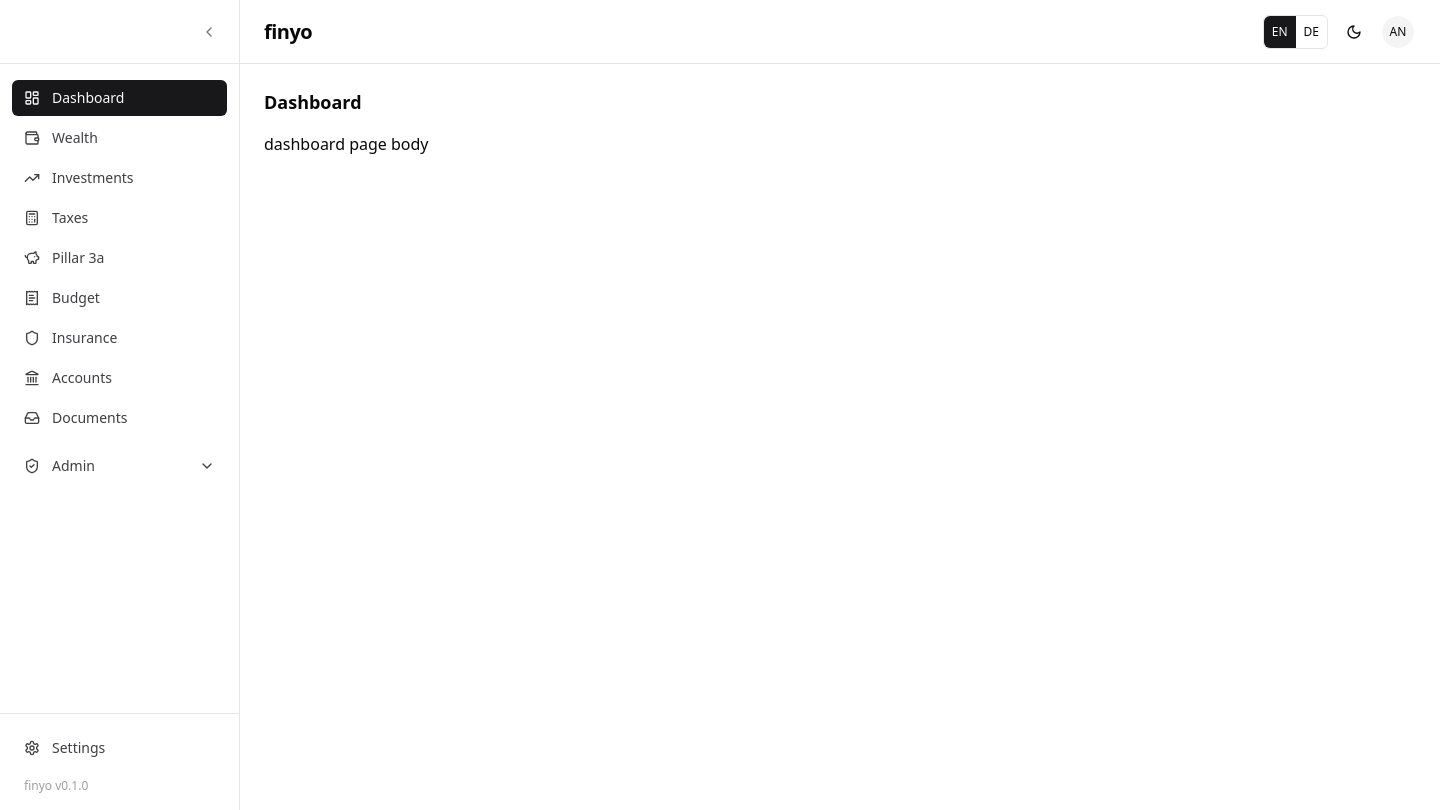
AppLayout › persists the collapsed state of the desktop sidebar
Click the button named "Collapse sidebar": (209, 32) [195,18,223,46]
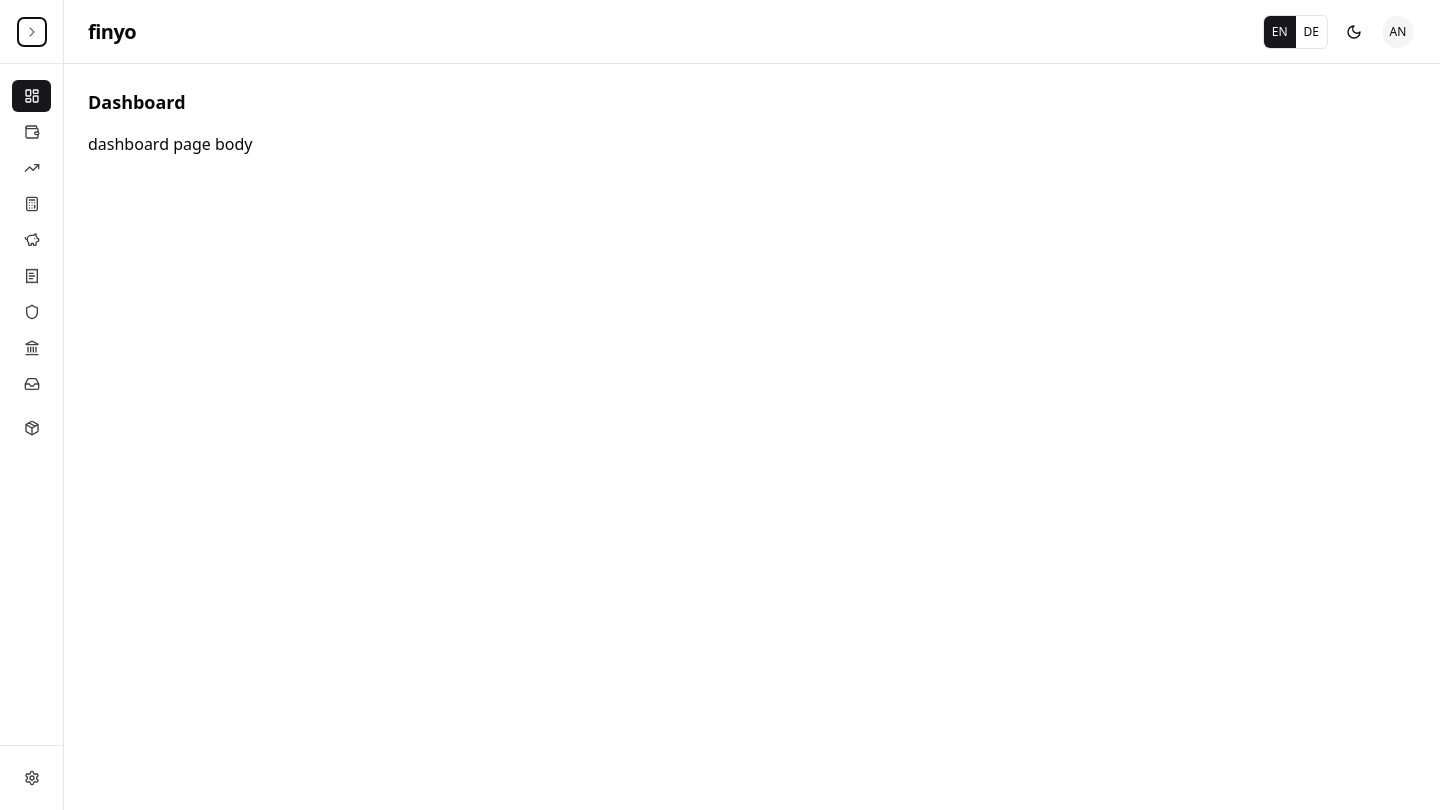
Expected: the text "finyo" is shown, [88,18,136,46]
Result: the button named "Expand sidebar" is shown at [18,18,46,46]
